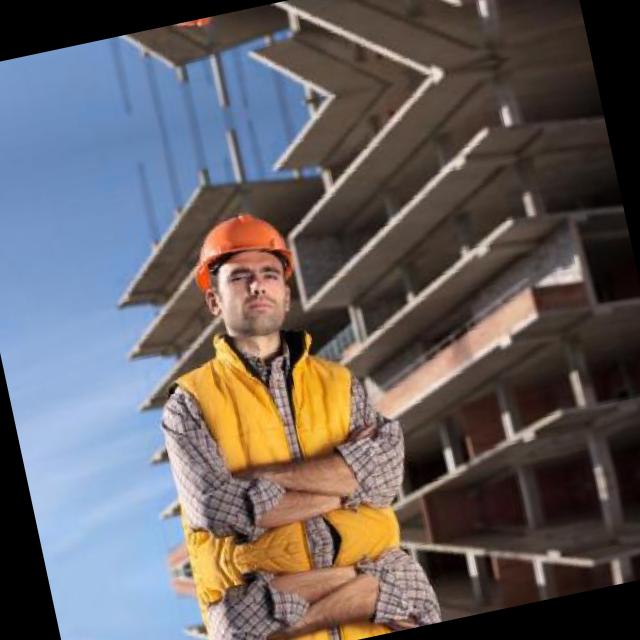helmet: (172, 188, 321, 354)
